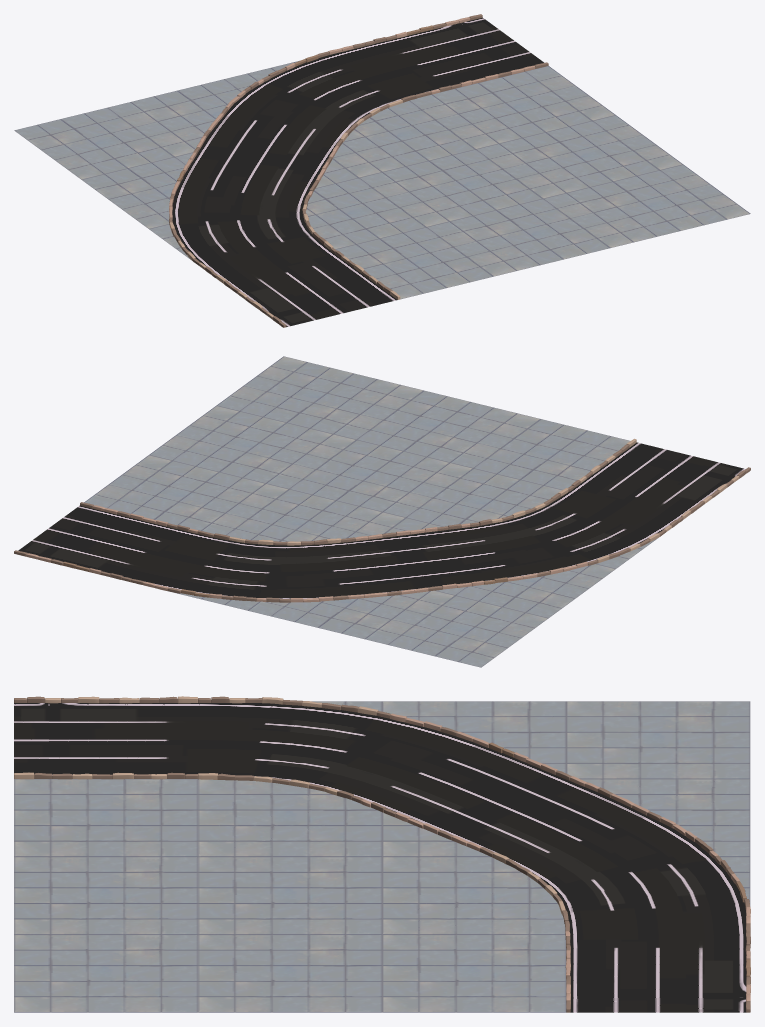
Rendered from CityRoad_45turn_4_4.fbx.
The picture shows the model from 3 angles, top to bottom: view 1: azimuth 30°, elevation 25°; view 2: azimuth 150°, elevation 25°; view 3: azimuth 270°, elevation 25°; orthographic projection. The views are drawn at different scales.
Parts seen in each view (by area): view 1: CityRoad_45turn_4_4_mesh; view 2: CityRoad_45turn_4_4_mesh; view 3: CityRoad_45turn_4_4_mesh.
Boxes of the visible parts, box(x1,y1,x2,y2) form: CityRoad_45turn_4_4_mesh: box(14, 14, 750, 327); CityRoad_45turn_4_4_mesh: box(14, 356, 750, 667); CityRoad_45turn_4_4_mesh: box(14, 696, 750, 1012).
Size of the model in its own units: 4003 by 28.55 by 4003.
